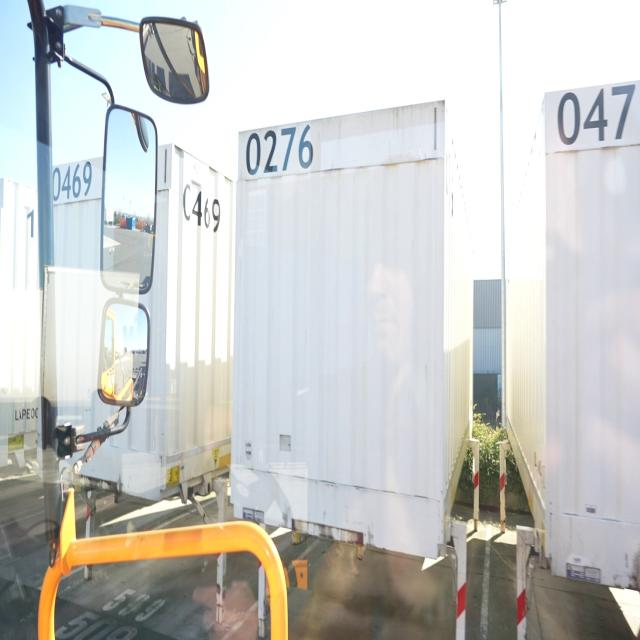Code: (243, 123, 314, 175), (180, 180, 221, 238), (49, 163, 94, 204)
